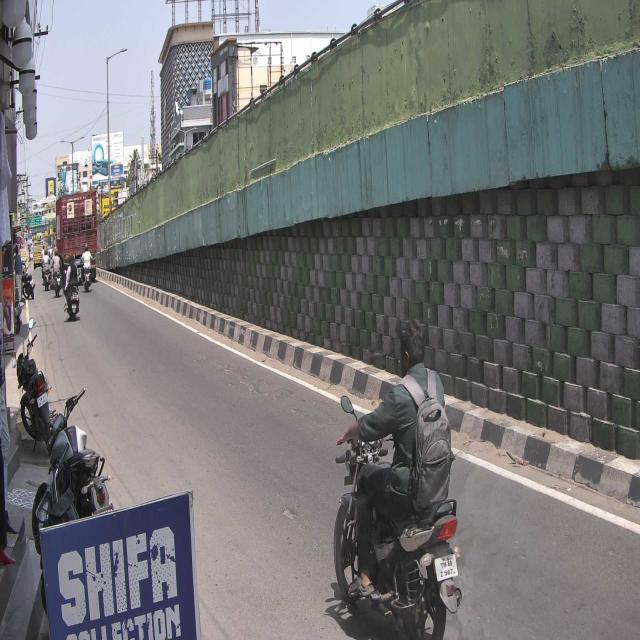single_rider: (332, 313, 463, 640)
